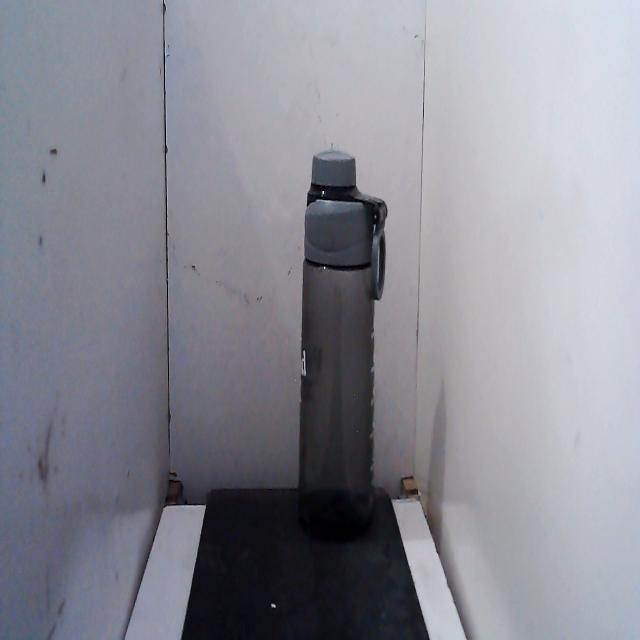plastic: (290, 130, 397, 554)
